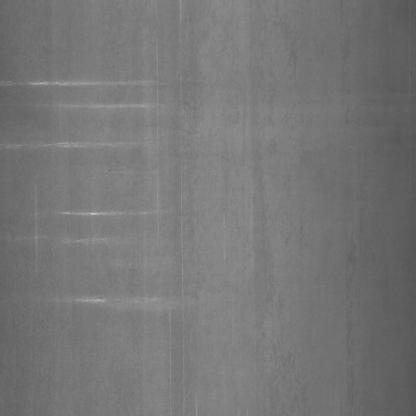waist_folding: (5, 42, 176, 347)
